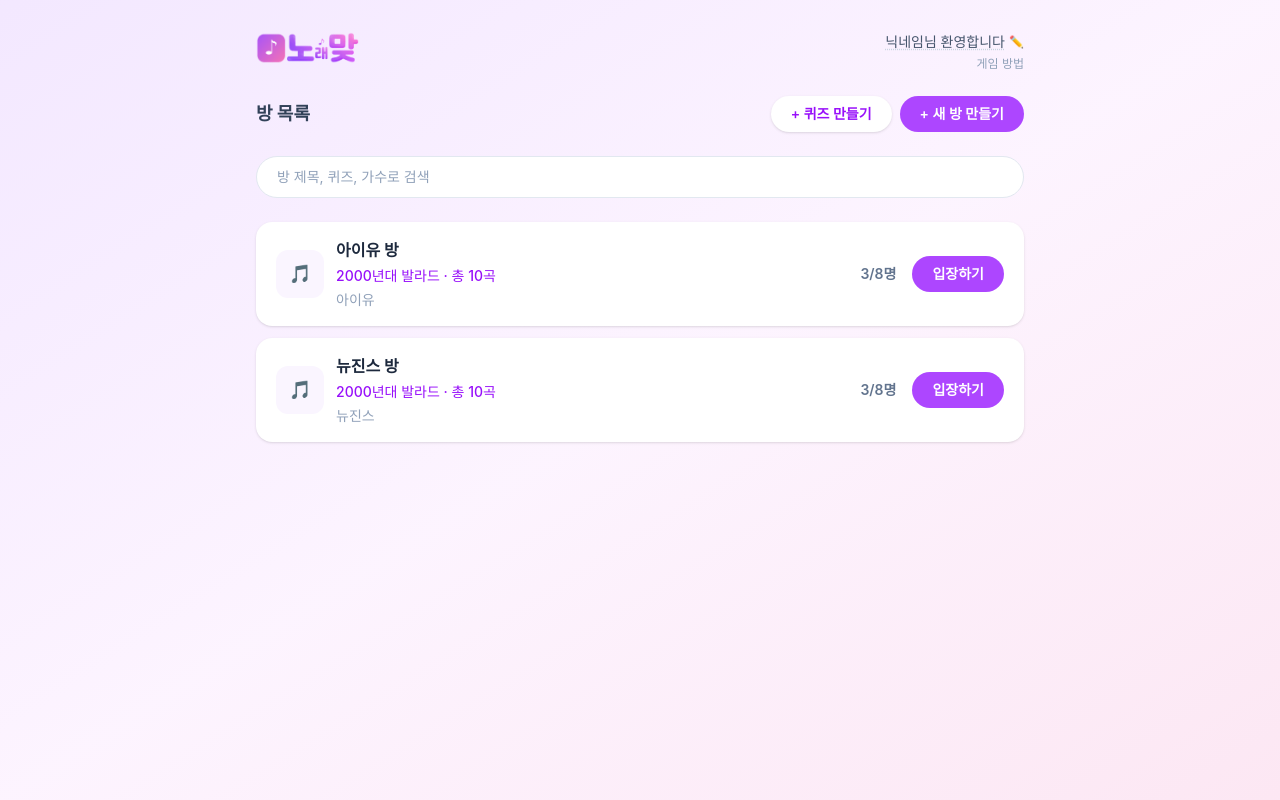
Test: RoomListPage › 검색어로 방 제목/퀴즈/가수를 필터링한다
Expected: the text "아이유 방" is shown, [336, 238, 399, 262]
Type "뉴진스" into the field with placeholder "방 제목, 퀴즈, 가수로 검색" at point(640, 177), box [256, 156, 1024, 198]
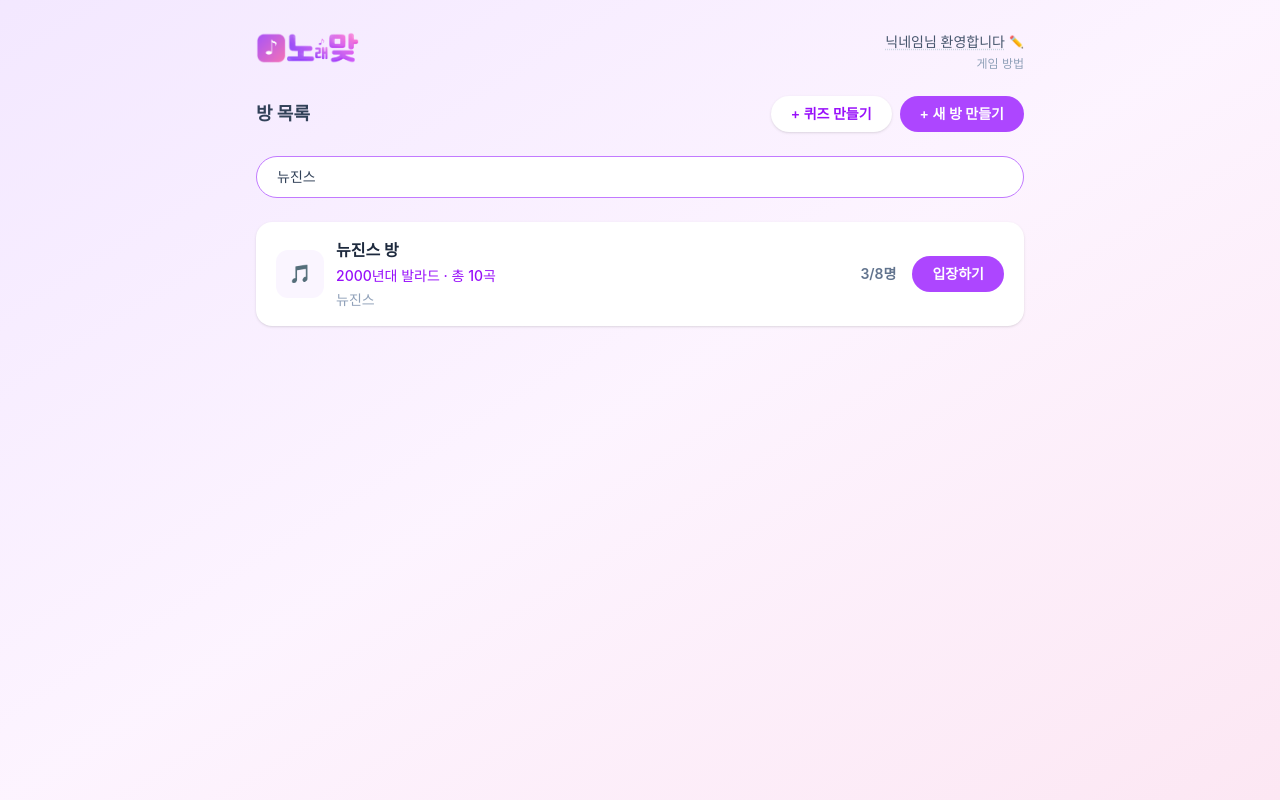
Expected: the text "뉴진스 방" is shown, [336, 238, 399, 262]
Now the text "아이유 방" is gone
